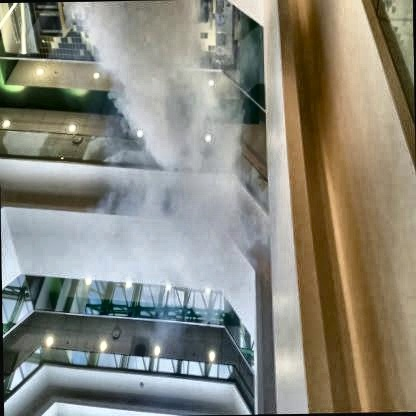smoke: (99, 75, 235, 288)
